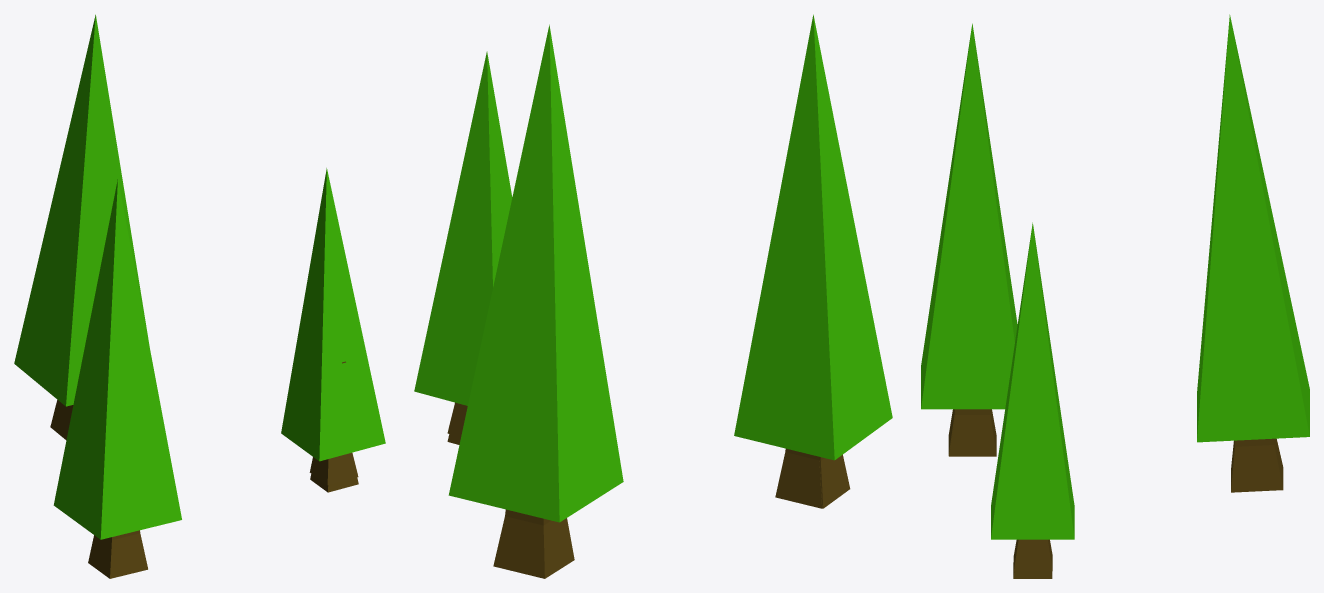
File: forest_tile.fbx
The picture shows the model from 3 angles, left to right: view 1: azimuth 30°, elevation 25°; view 2: azimuth 150°, elevation 25°; view 3: azimuth 270°, elevation 25°; orthographic projection. The views are drawn at different scales.
Visible parts, largest first — view 1: tree_pointy.002, tree_pointy, tree_pointy.001, tree_empty.001; view 2: tree_pointy, tree_pointy.002, tree_pointy.001, tree_empty.002; view 3: tree_pointy, tree_pointy.002, tree_pointy.001, tree_empty.002, tree_empty.001.
Boxes of the visible parts, x1,y1,x2,y2 form: tree_pointy.002: (53,179,181,578); tree_pointy: (14,14,148,439); tree_pointy.001: (281,168,385,492); tree_empty.001: (309,361,358,485); tree_pointy: (448,24,623,578); tree_pointy.002: (734,14,892,508); tree_pointy.001: (414,51,512,444); tree_empty.002: (775,448,822,508); tree_pointy: (1197,14,1309,492); tree_pointy.002: (921,23,1017,455); tree_pointy.001: (991,222,1074,578); tree_empty.002: (949,409,996,456); tree_empty.001: (1004,426,1052,571).
Size of the model in its own units: 349 by 465 by 339.
